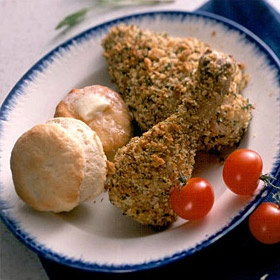background: (4, 10, 122, 107)
